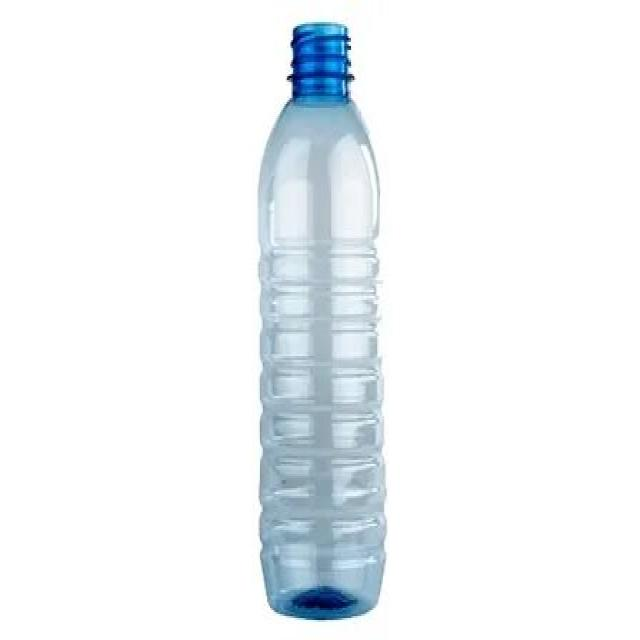blue: (256, 20, 387, 620)
